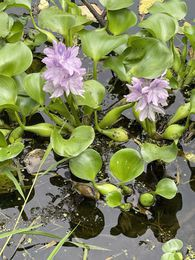water_hyacinth: (0, 0, 195, 218)
